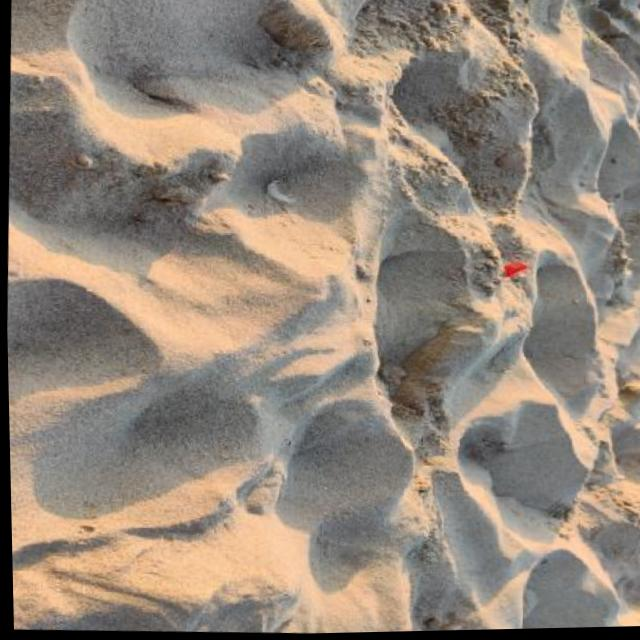other: (501, 258, 528, 278)
